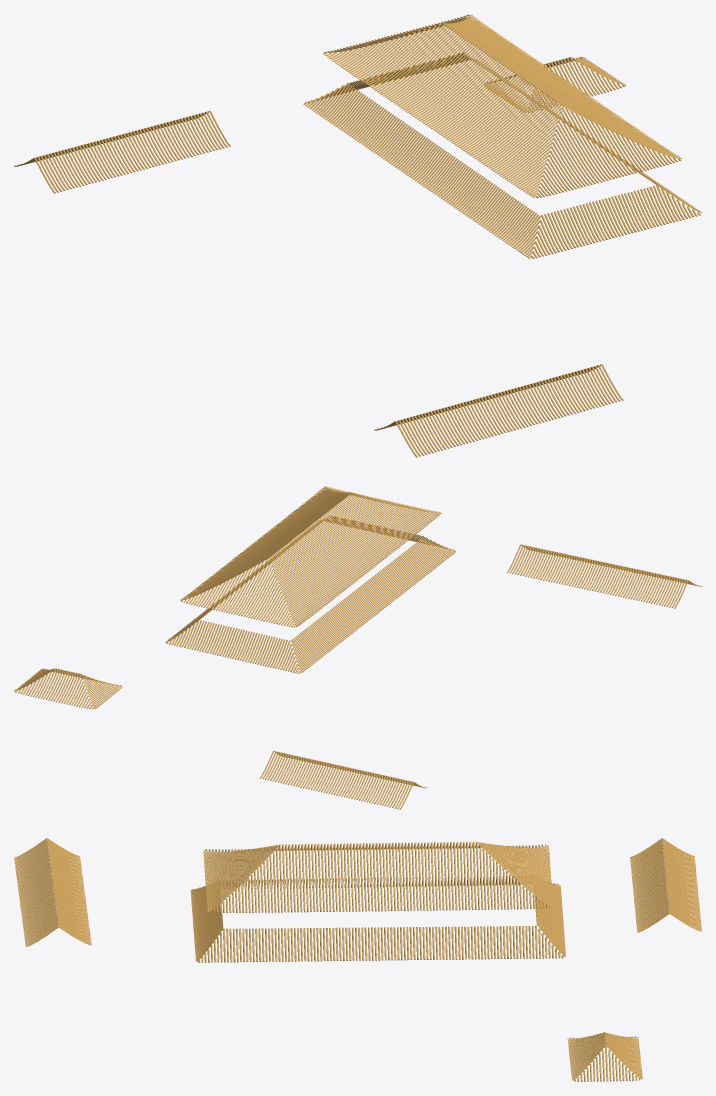
Rendered from roof-tiles-7-2.glb.
3 views of the same model, one above another, from view 1: azimuth 30°, elevation 25°; view 2: azimuth 150°, elevation 25°; view 3: azimuth 270°, elevation 25° (orthographic). The views are drawn at different scales.
Visible parts, largest first — view 1: roof-tiles-7-2_micro_Roof_Glazed_Ochre; view 2: roof-tiles-7-2_micro_Roof_Glazed_Ochre; view 3: roof-tiles-7-2_micro_Roof_Glazed_Ochre.
Part boxes in pixels (x1,y1,x2,y2): roof-tiles-7-2_micro_Roof_Glazed_Ochre: [14, 14, 701, 457]; roof-tiles-7-2_micro_Roof_Glazed_Ochre: [14, 486, 701, 809]; roof-tiles-7-2_micro_Roof_Glazed_Ochre: [14, 838, 701, 1081].
Size of the model in its own units: 0.6597 by 0.1903 by 0.8502.
